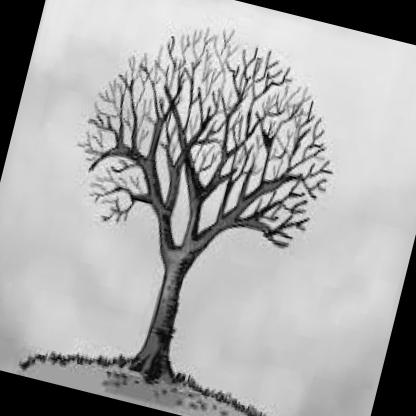root_none: (109, 338, 207, 408)
trunk_straight: (145, 278, 188, 352)
